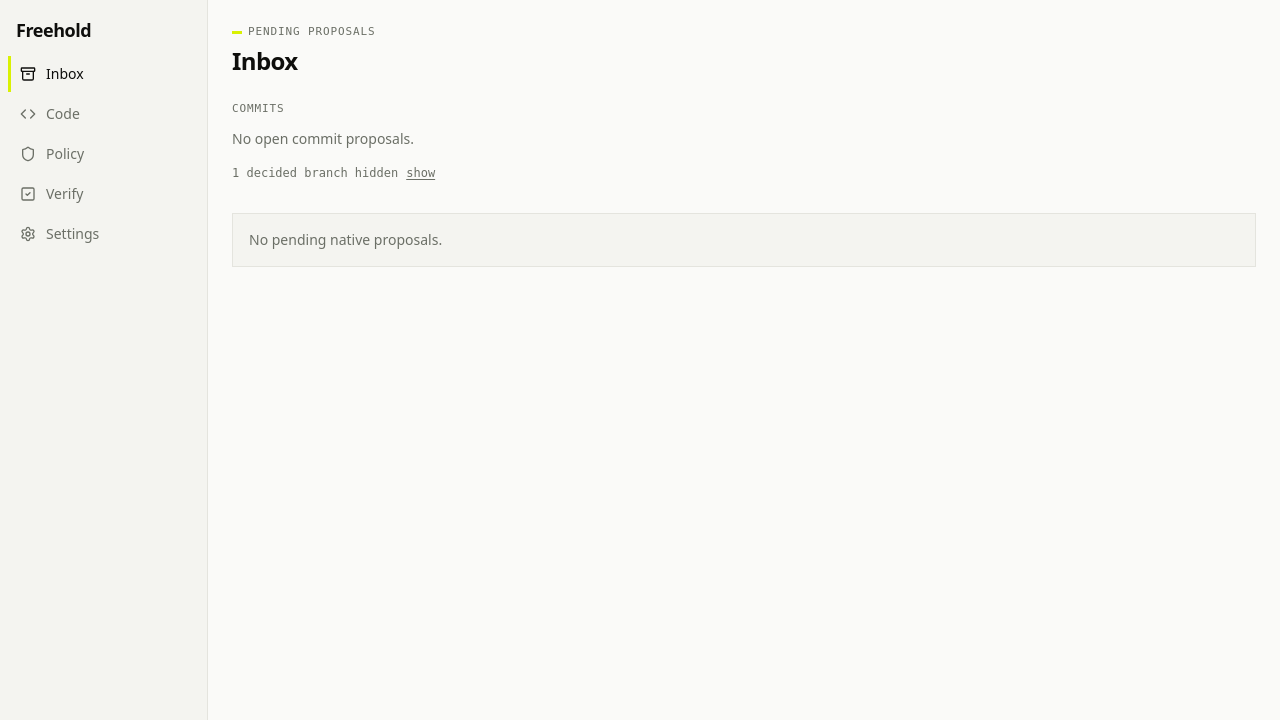
it: Inbox › Inbox — bundle display › toggle shows decided bundles when clicked
Expected: the text "bbb2222" is not shown
// Click show
Step 1. Click the button with test id "toggle-decided" → click(421, 173), box 406,165 -> 435,181
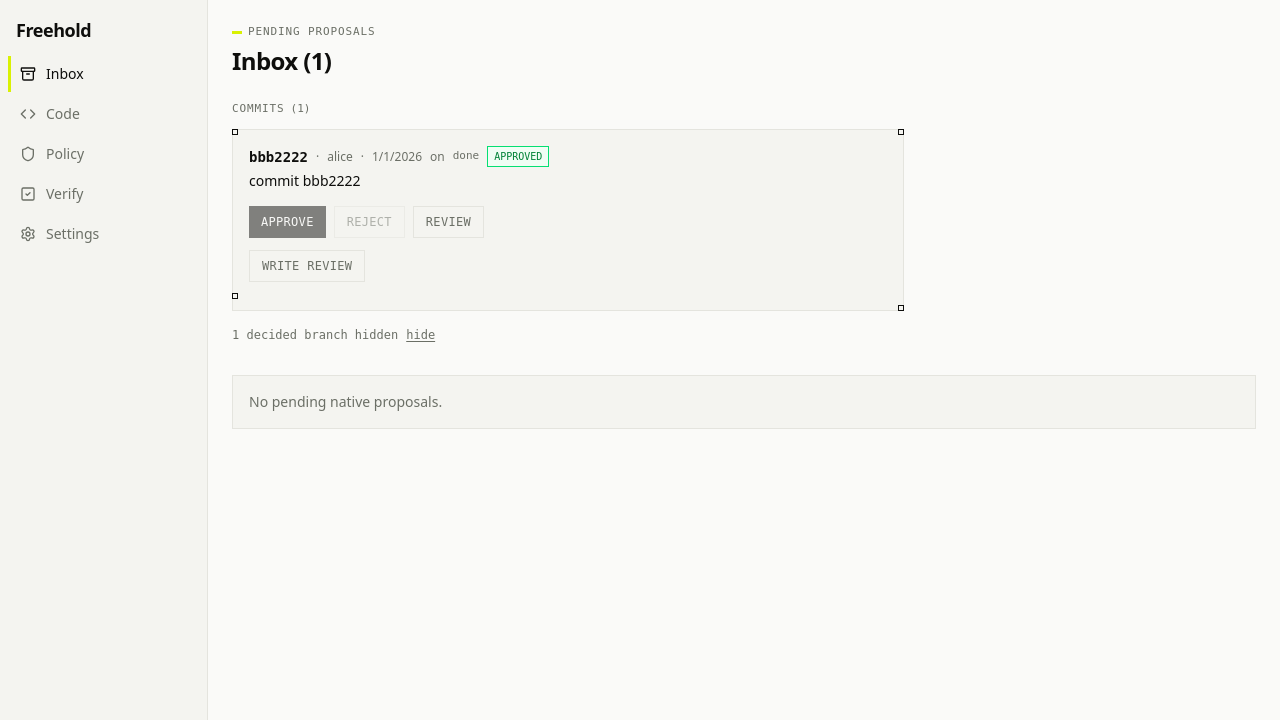
Expected: the text "bbb2222" is shown, 249,146 -> 308,166
